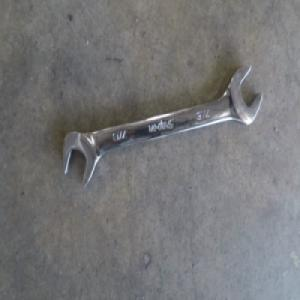Wrench: (64, 64, 263, 192)
